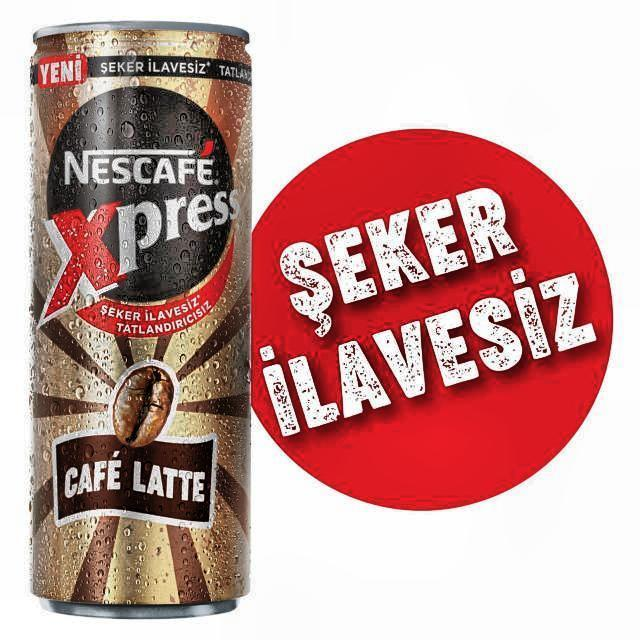metal: (28, 21, 252, 621)
